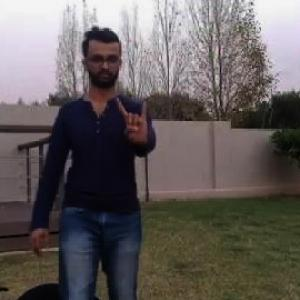takeoff-hand: (112, 91, 161, 151)
